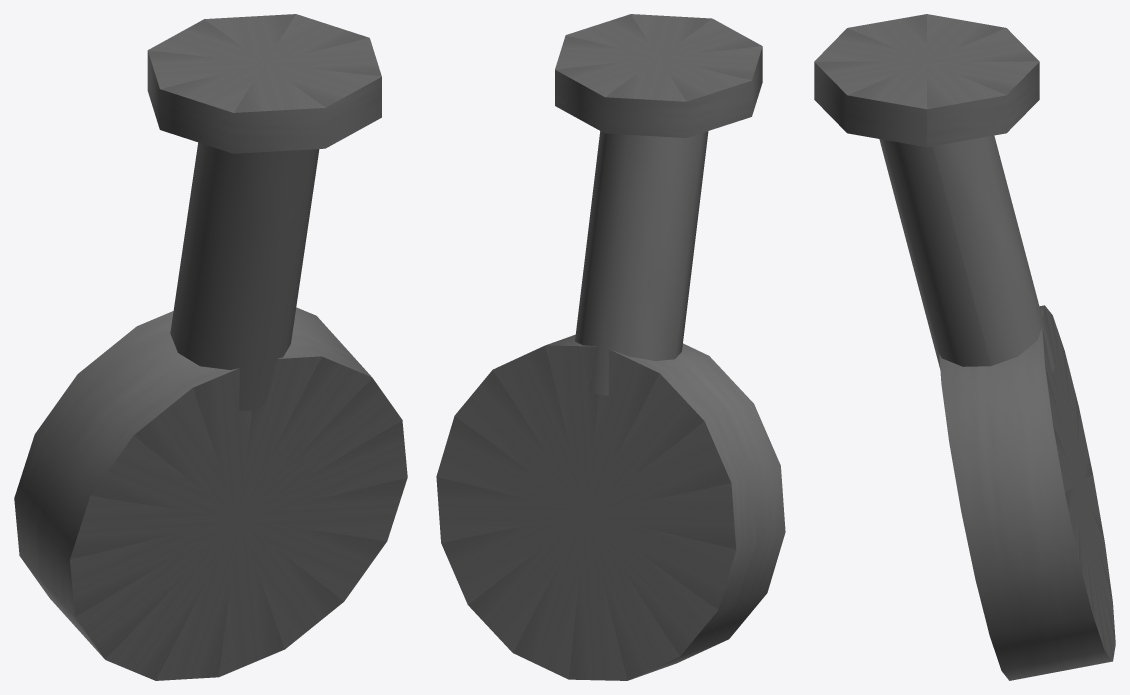
File: mastarmcurve_8x2_c6_up.obj
The picture shows the model from 3 angles, left to right: view 1: azimuth 30°, elevation 25°; view 2: azimuth 150°, elevation 25°; view 3: azimuth 270°, elevation 25°; orthographic projection. The views are drawn at different scales.
Visible parts, largest first — view 1: mastarm_8x2_c6_up; view 2: mastarm_8x2_c6_up; view 3: mastarm_8x2_c6_up.
Boxes of the visible parts, <box> form: mastarm_8x2_c6_up: <box>14,14,407,680</box>; mastarm_8x2_c6_up: <box>436,14,785,680</box>; mastarm_8x2_c6_up: <box>814,14,1115,680</box>.
Bounding box in the file's own units: 0.6436 × 1.18 × 0.535.
